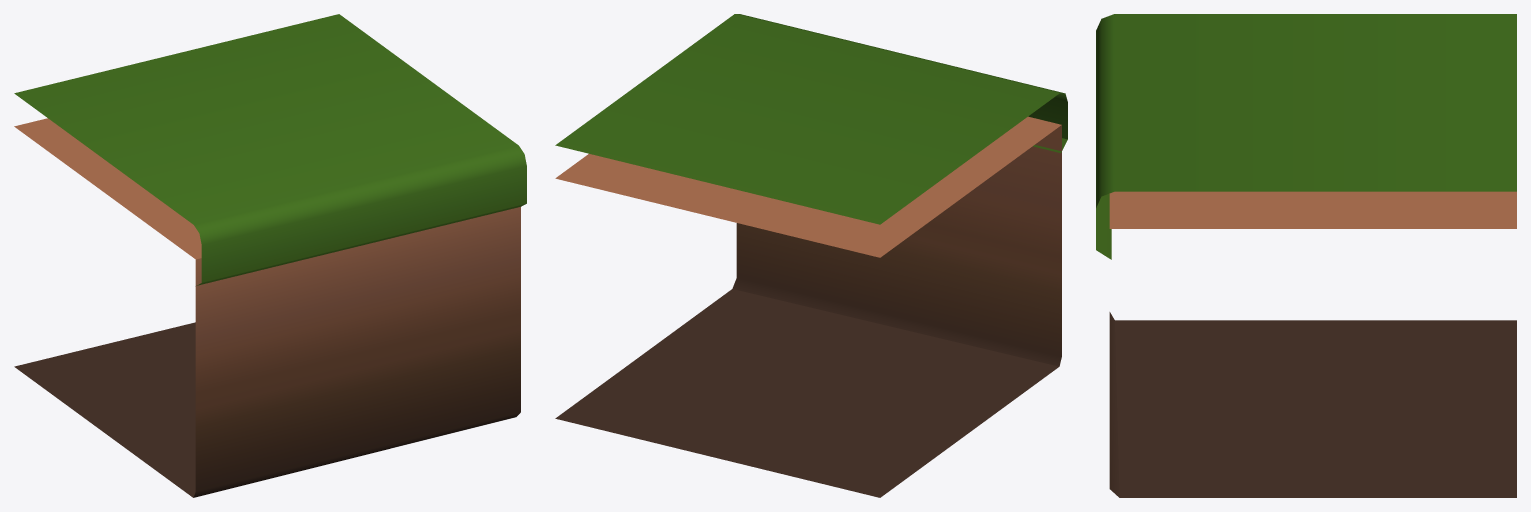
File: GroundTile_2.fbx
3 views of the same model, side by side, from view 1: azimuth 30°, elevation 25°; view 2: azimuth 150°, elevation 25°; view 3: azimuth 270°, elevation 25° (orthographic). The views are drawn at different scales.
Visible parts, largest first — view 1: GroundTile_2; view 2: GroundTile_2; view 3: GroundTile_2.
Boxes of the visible parts, <box> form: GroundTile_2: <box>14,14,526,497</box>; GroundTile_2: <box>555,14,1067,497</box>; GroundTile_2: <box>1096,14,1516,497</box>.
Size of the model in its own units: 400 by 321 by 400.
